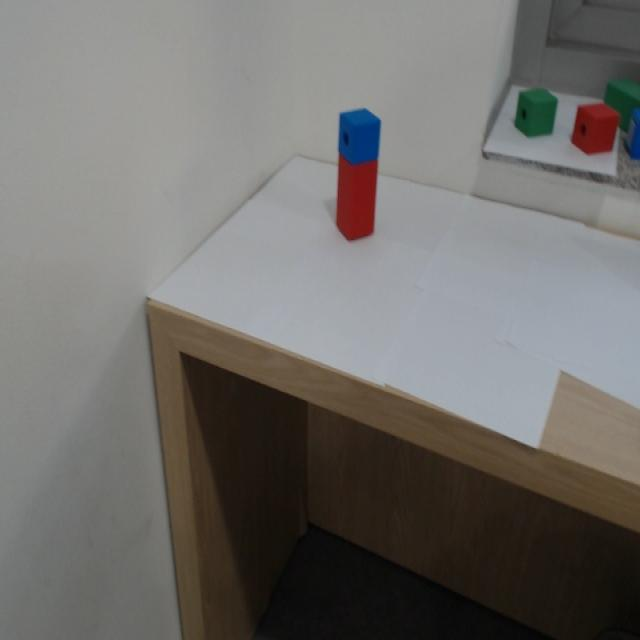cube: (330, 106, 387, 164)
